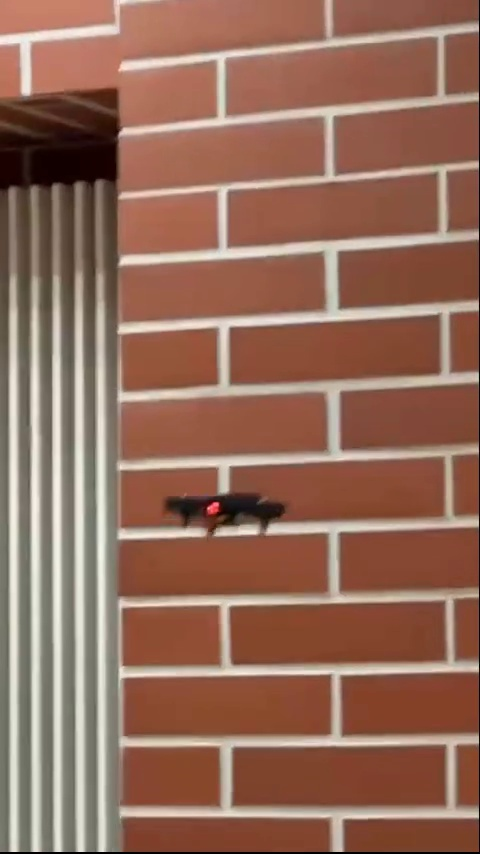drone: (157, 486, 293, 545)
